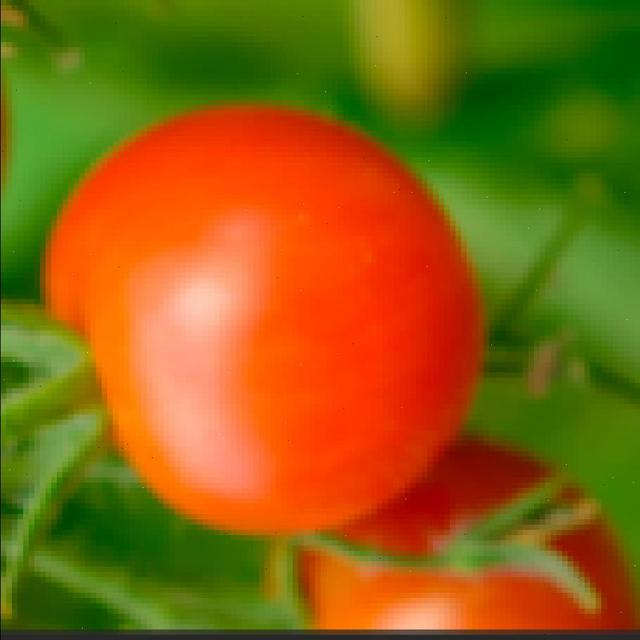Healthy Fruit: (180, 95, 301, 369)
